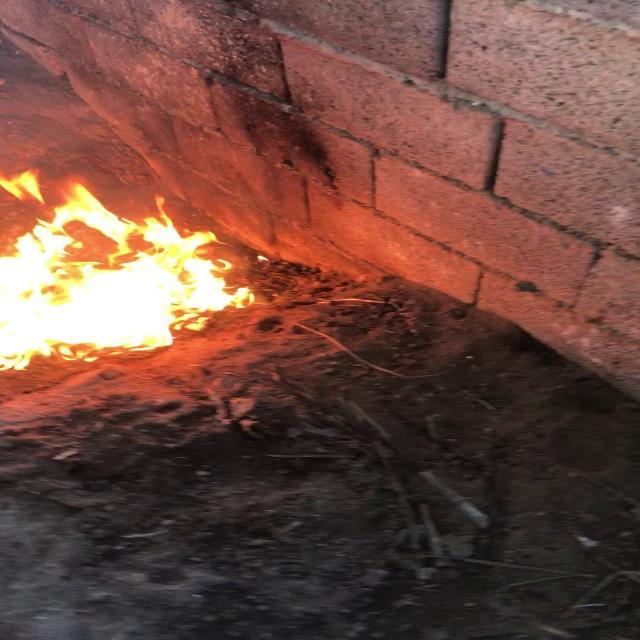Fire: (0, 173, 258, 361)
